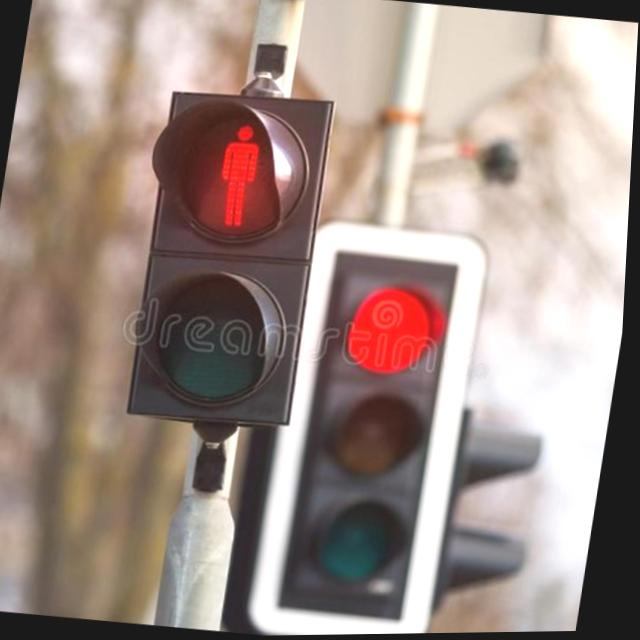red_light: (208, 116, 269, 233)
